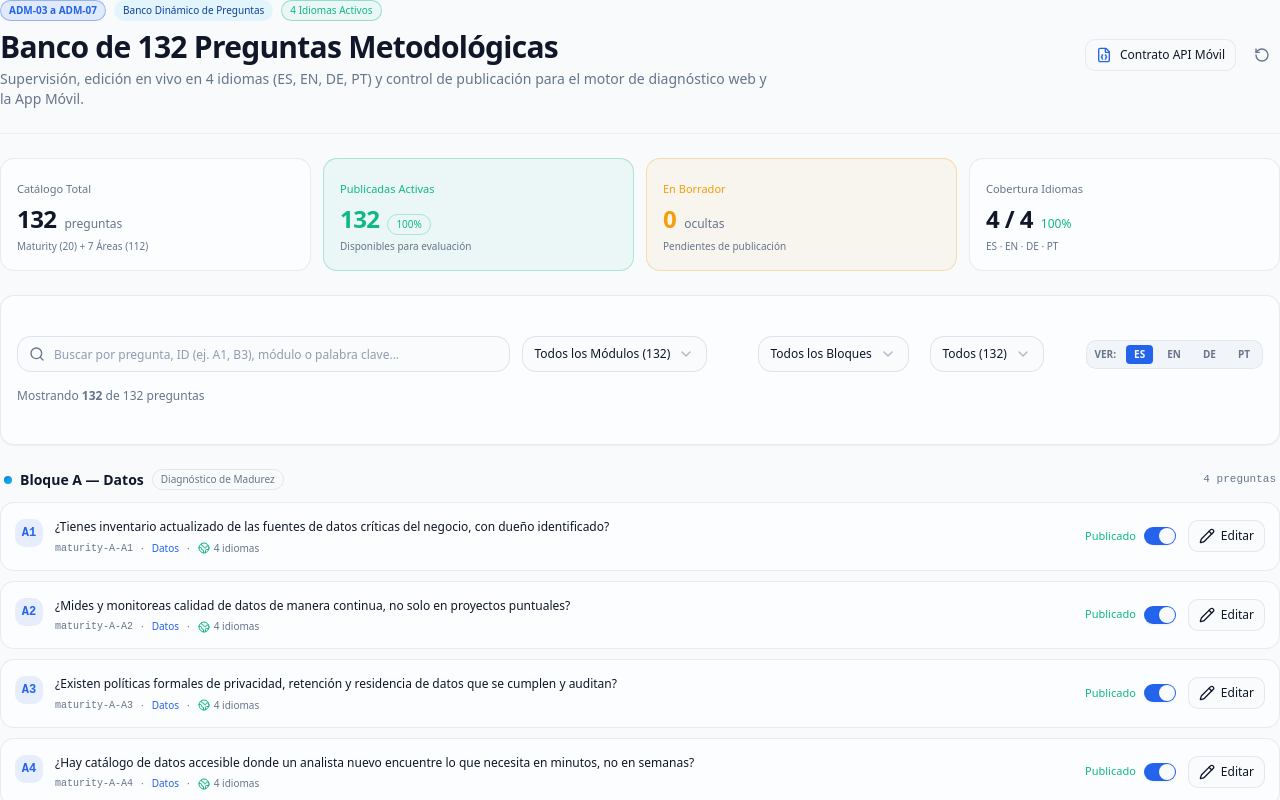
Test: AdminQuestions Page › opens multilingual editor modal when clicking edit
Click the button "Editar" in the row of "maturity-A-A1" at (1226, 536), box [1188,520,1265,552]
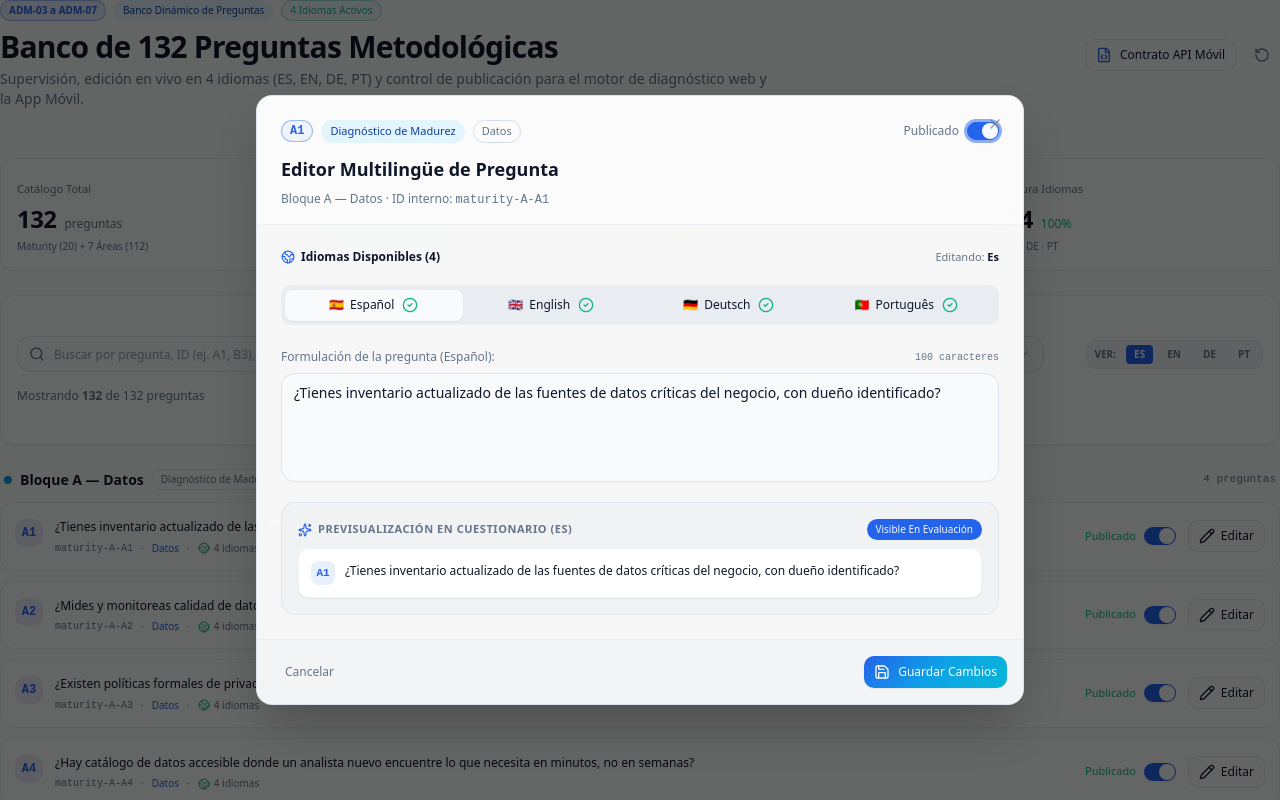
expect the heading "Editor Multilingüe de Pregunta" is shown: met, box [281,156,559,180]
expect the text "Idiomas Disponibles (4)" is shown: met, box [281,249,440,265]
